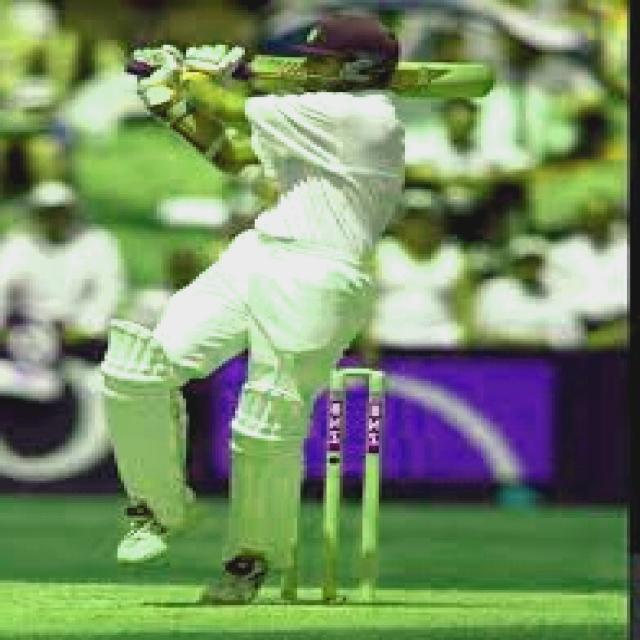toe: (477, 64, 494, 99)
